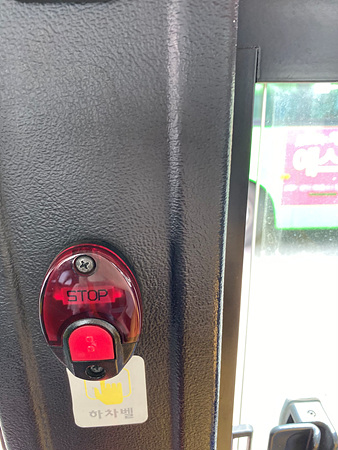bell: (37, 240, 144, 380)
